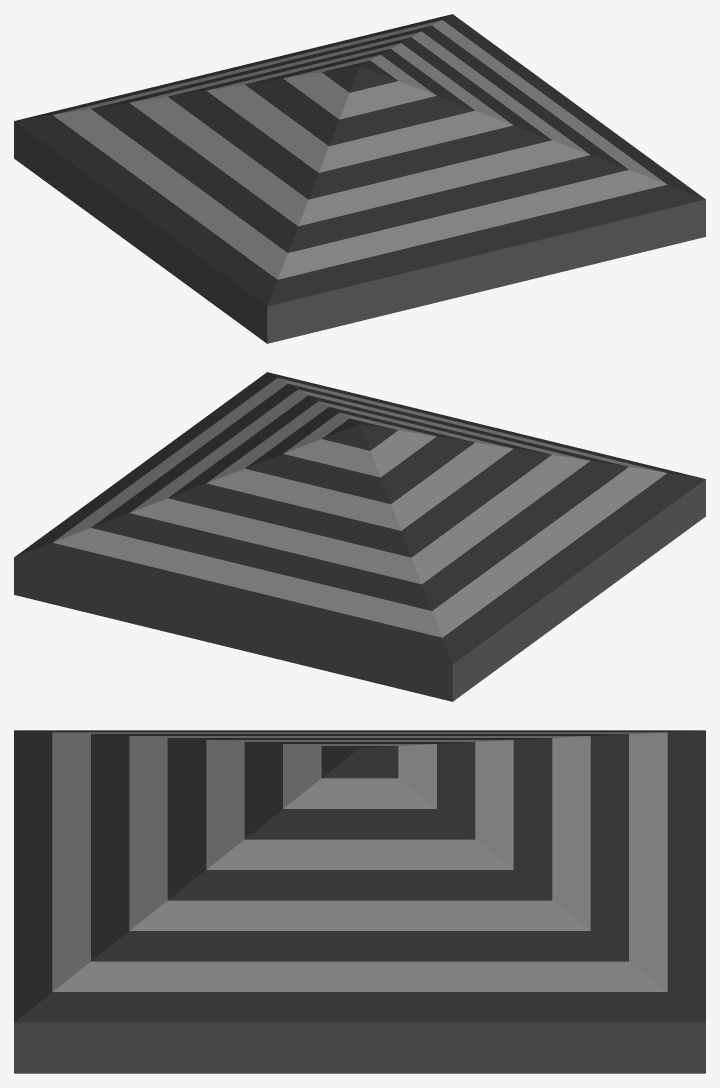
The model's file is temple_platform.fbx.
The picture shows the model from 3 angles, top to bottom: view 1: azimuth 30°, elevation 25°; view 2: azimuth 150°, elevation 25°; view 3: azimuth 270°, elevation 25°; orthographic projection. The views are drawn at different scales.
Visible parts, largest first — view 1: S5.pyramlid_platform; view 2: S5.pyramlid_platform; view 3: S5.pyramlid_platform.
Part boxes in pixels (x1=…): S5.pyramlid_platform: x1=14, y1=14, x2=705, y2=343; S5.pyramlid_platform: x1=14, y1=372, x2=705, y2=701; S5.pyramlid_platform: x1=14, y1=730, x2=705, y2=1073.
Size of the model in its own units: 33.73 by 9.66 by 33.73.
